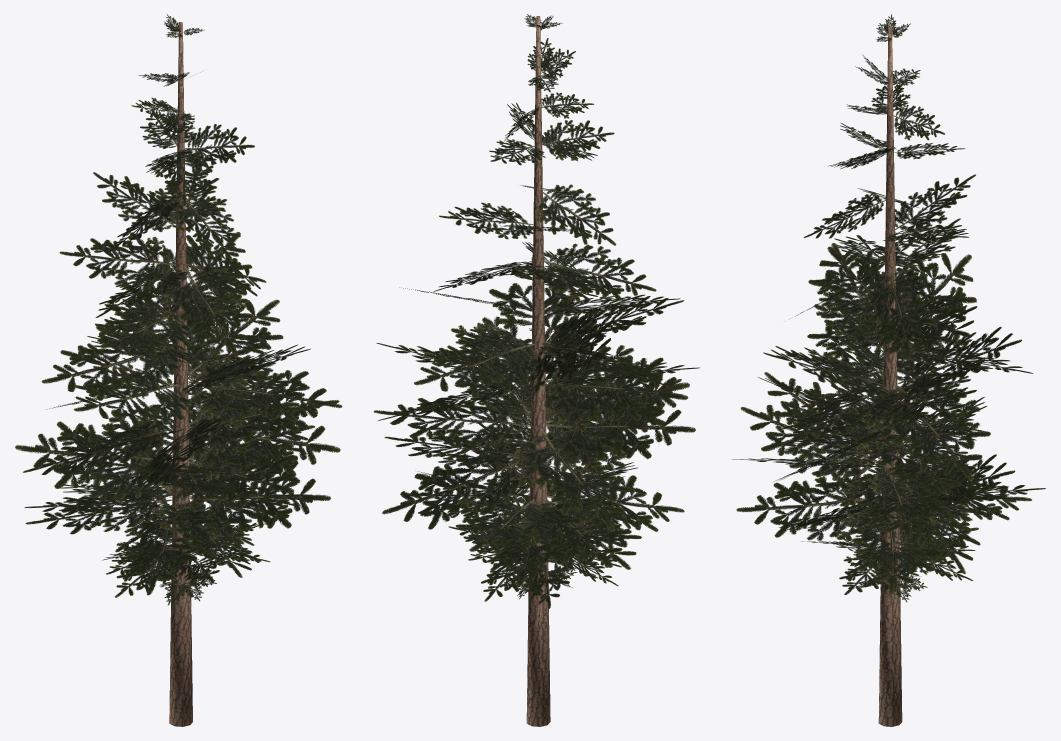
Rendered from fir.glb.
3 views of the same model, side by side, from view 1: azimuth 30°, elevation 25°; view 2: azimuth 150°, elevation 25°; view 3: azimuth 270°, elevation 25° (orthographic).
Visible parts, largest first — view 1: Fir.001; view 2: Fir.001; view 3: Fir.001.
Part boxes in pixels (left/top/right/bottom): Fir.001: left=15, top=14, right=342, bottom=726; Fir.001: left=373, top=14, right=699, bottom=726; Fir.001: left=732, top=14, right=1045, bottom=726.
Bounding box in the file's own units: 13.05 × 30.59 × 12.55.
Materials: 2 (2 with a texture image).
